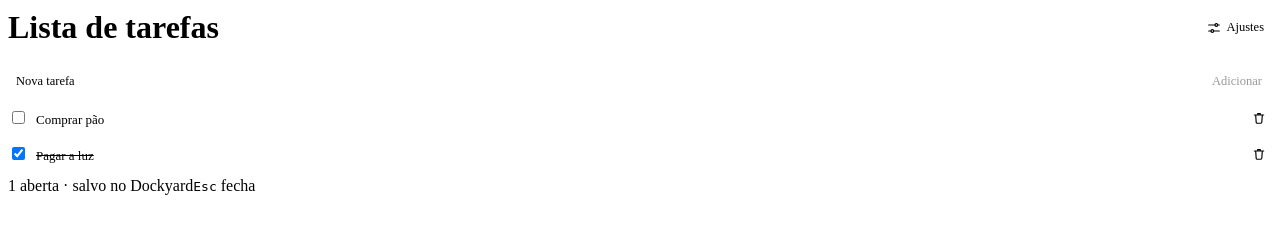
Test: TodoPanel › marks a task done and moves it among the done
Step 1. Click the checkbox labelled "Comprar pão" → (18, 117), box [12,111,25,124]
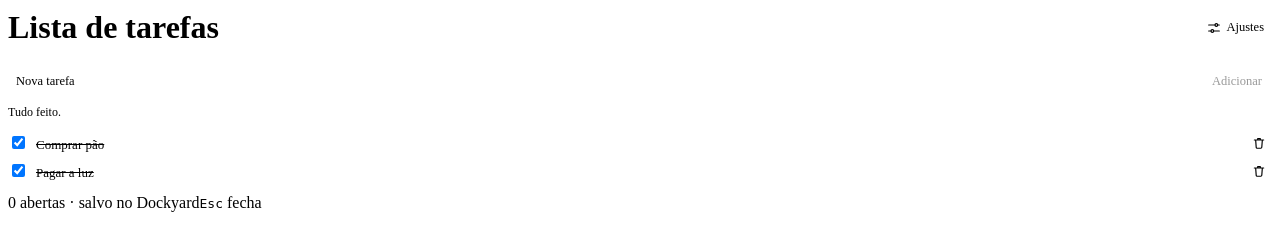
Expected: the text "Comprar pão" is shown, [36,137,104,152]
Now the text "Tudo feito." is shown, box [8,105,61,119]
